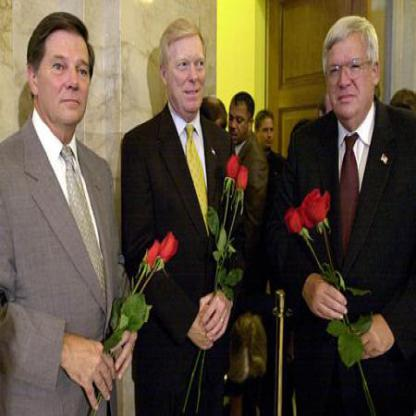face: (38, 18, 96, 129), (325, 20, 376, 121), (167, 29, 208, 114), (226, 96, 250, 146), (258, 111, 279, 150)
